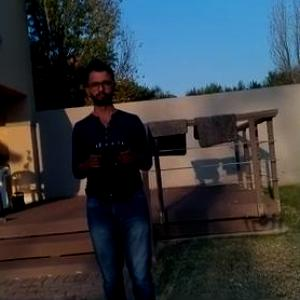follow: (70, 55, 161, 299)
